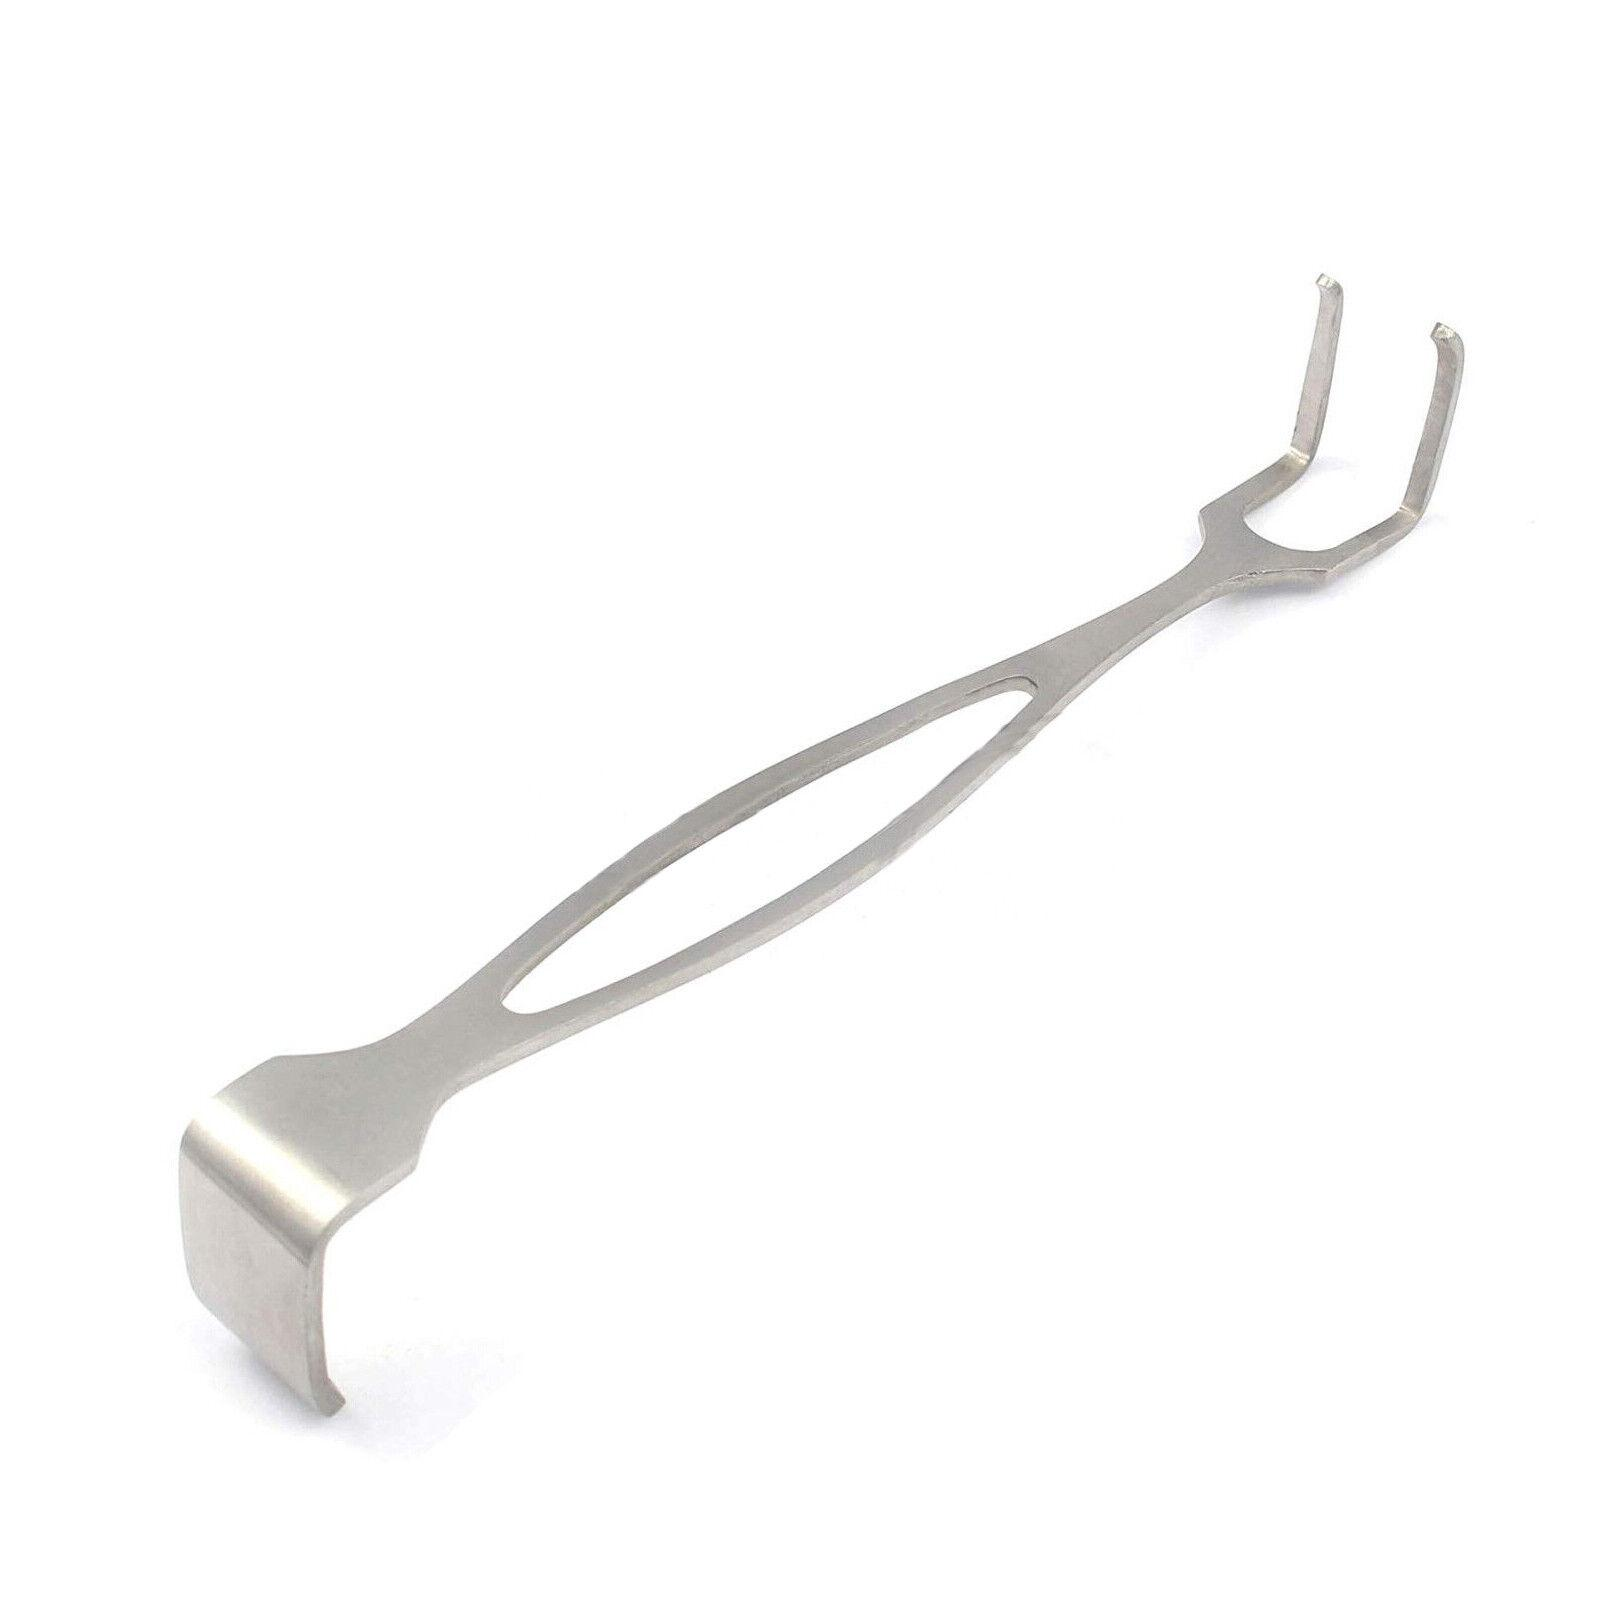Czerney Retractor: (160, 240, 1490, 1415)
